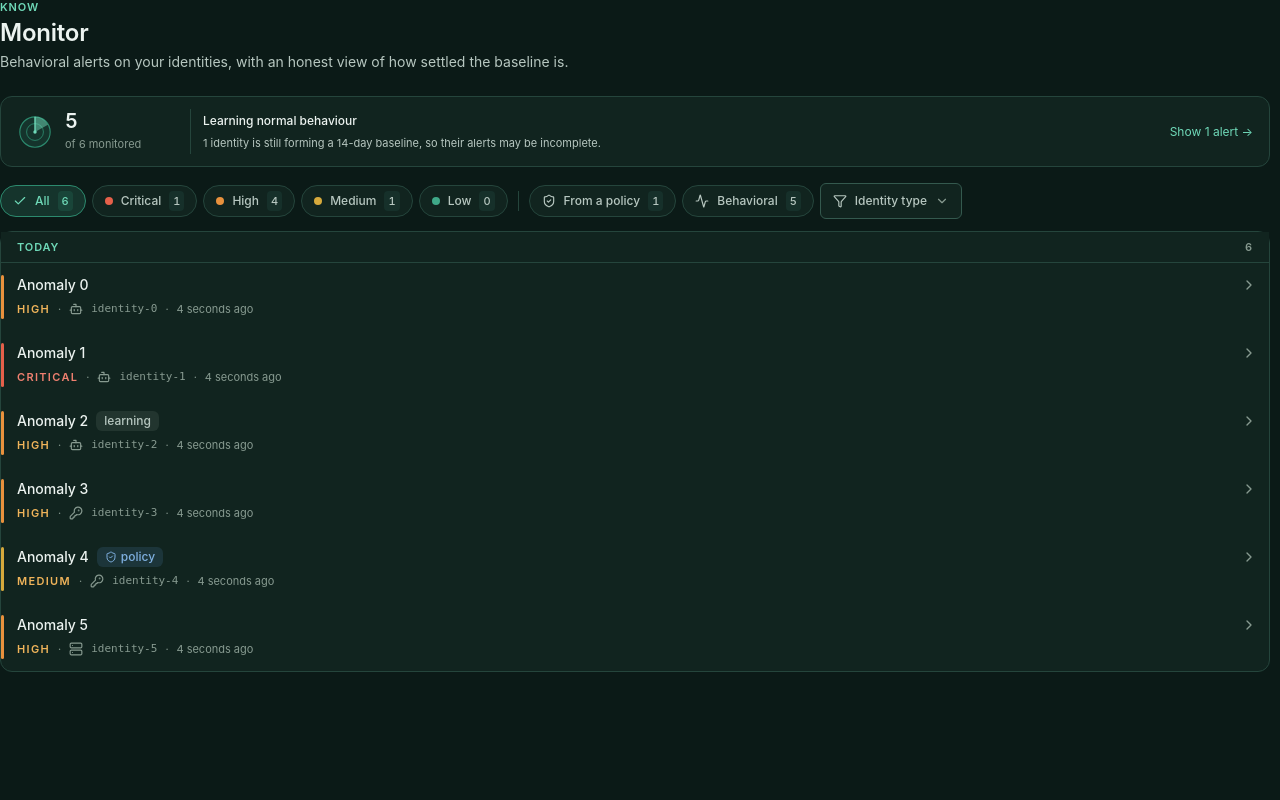
Test: Monitor identity-type filter › counts each type within the active severity, not the whole feed
The image size is (1280, 800).
Click the button "Critical 1" at (145, 201), box [92,185,197,217]
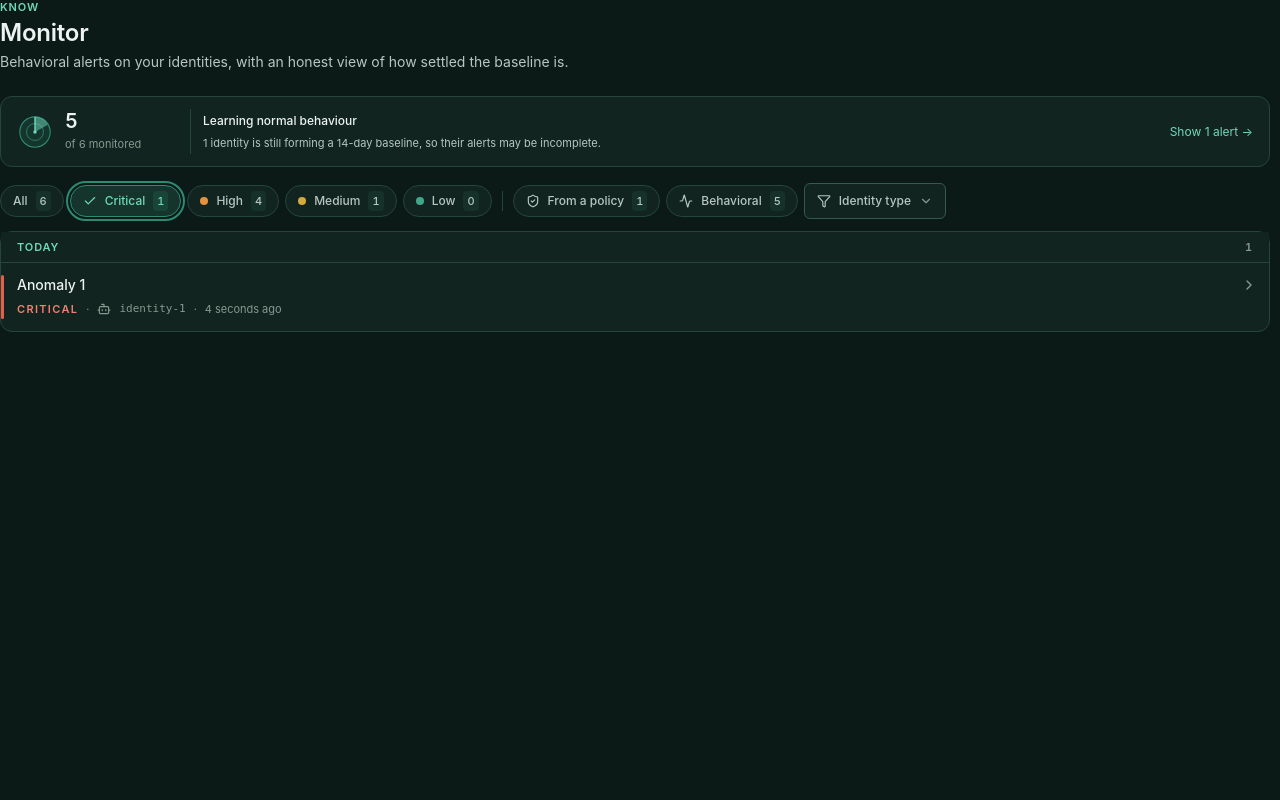
Click the button "Identity type" at (875, 201), box [804,183,946,219]
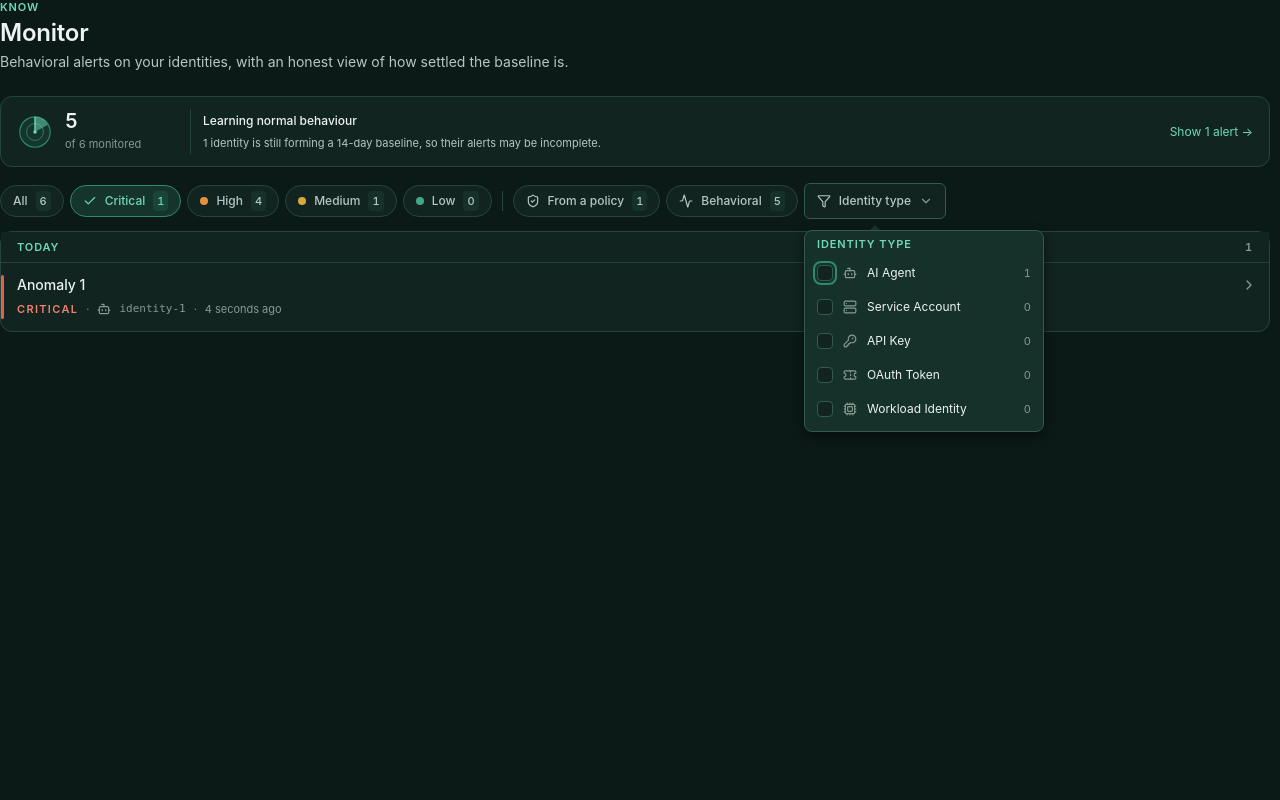
Expected: the label "AI Agent" shows "1", [1024,266,1031,280]
Expected: the label "API Key" shows "0", [1024,334,1031,348]
